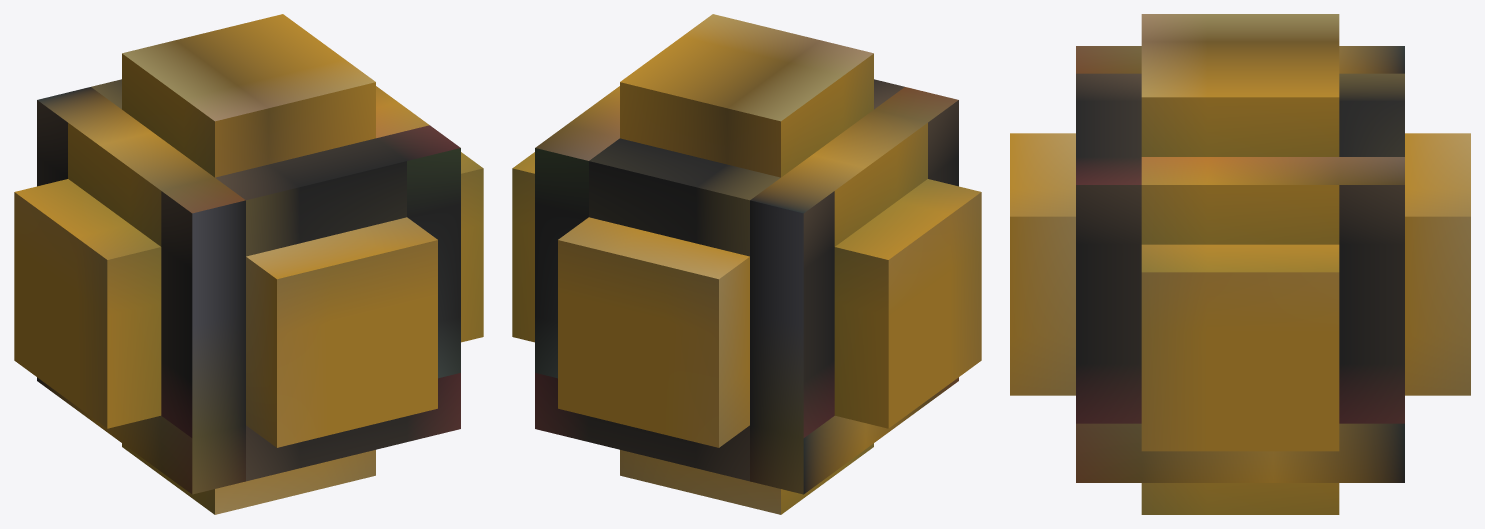
The model's file is BallYellow_00.obj.
3 views of the same model, side by side, from view 1: azimuth 30°, elevation 25°; view 2: azimuth 150°, elevation 25°; view 3: azimuth 270°, elevation 25° (orthographic). The views are drawn at different scales.
Parts seen in each view (by area): view 1: BallYellow_00; view 2: BallYellow_00; view 3: BallYellow_00.
Boxes of the visible parts, left/top/right/bottom form: BallYellow_00: left=14, top=14, right=483, bottom=514; BallYellow_00: left=512, top=14, right=981, bottom=514; BallYellow_00: left=1010, top=14, right=1470, bottom=514.
Size of the model in its own units: 0.35 by 0.35 by 0.35.
